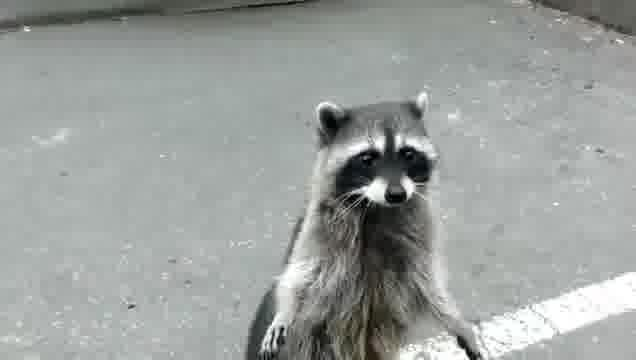raccoon: (246, 92, 482, 360)
